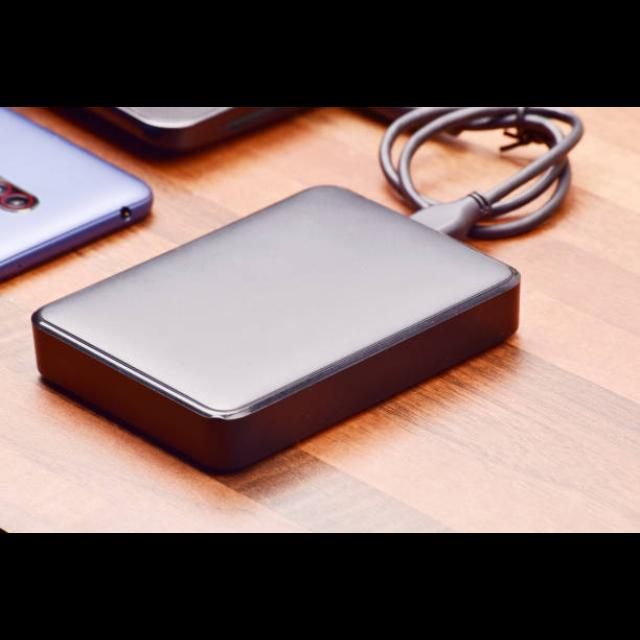HDD: (30, 185, 522, 475)
